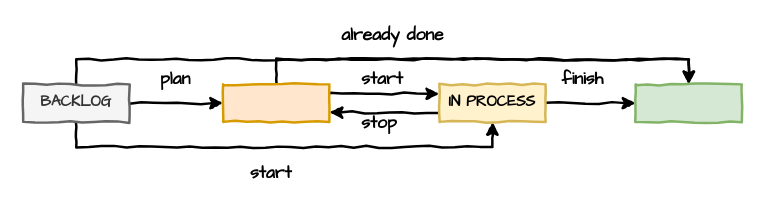
Some shapes in this 764 by 205 pixel diagram are drawn without their labels. Here are the shapes that lost their labels. From the top down, the box of each, then its label:
(221, 82, 330, 122): READY
(634, 82, 742, 122): DONE
